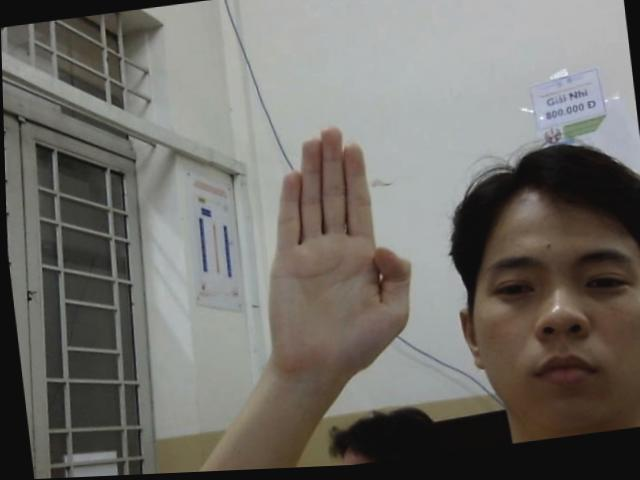B: (230, 111, 425, 368)
